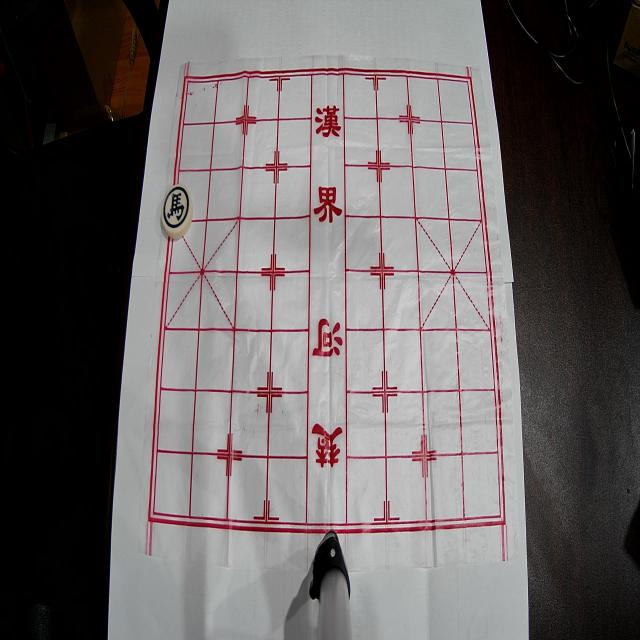black-horse: (161, 184, 193, 239)
